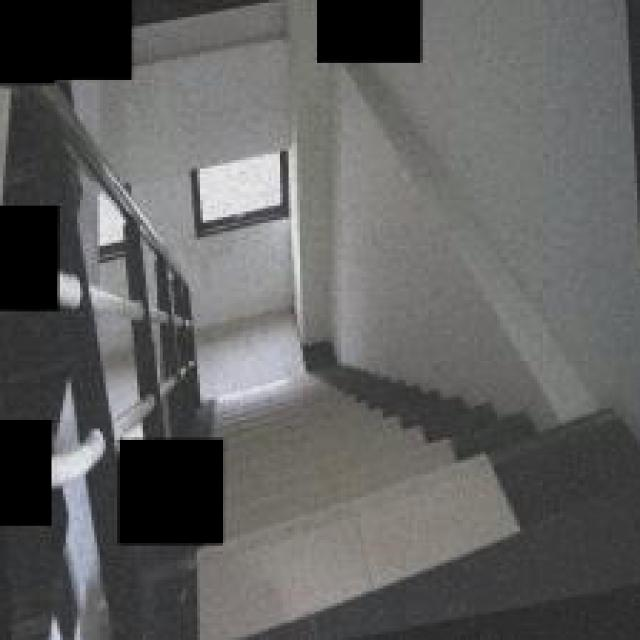downstair: (247, 398, 487, 615)
